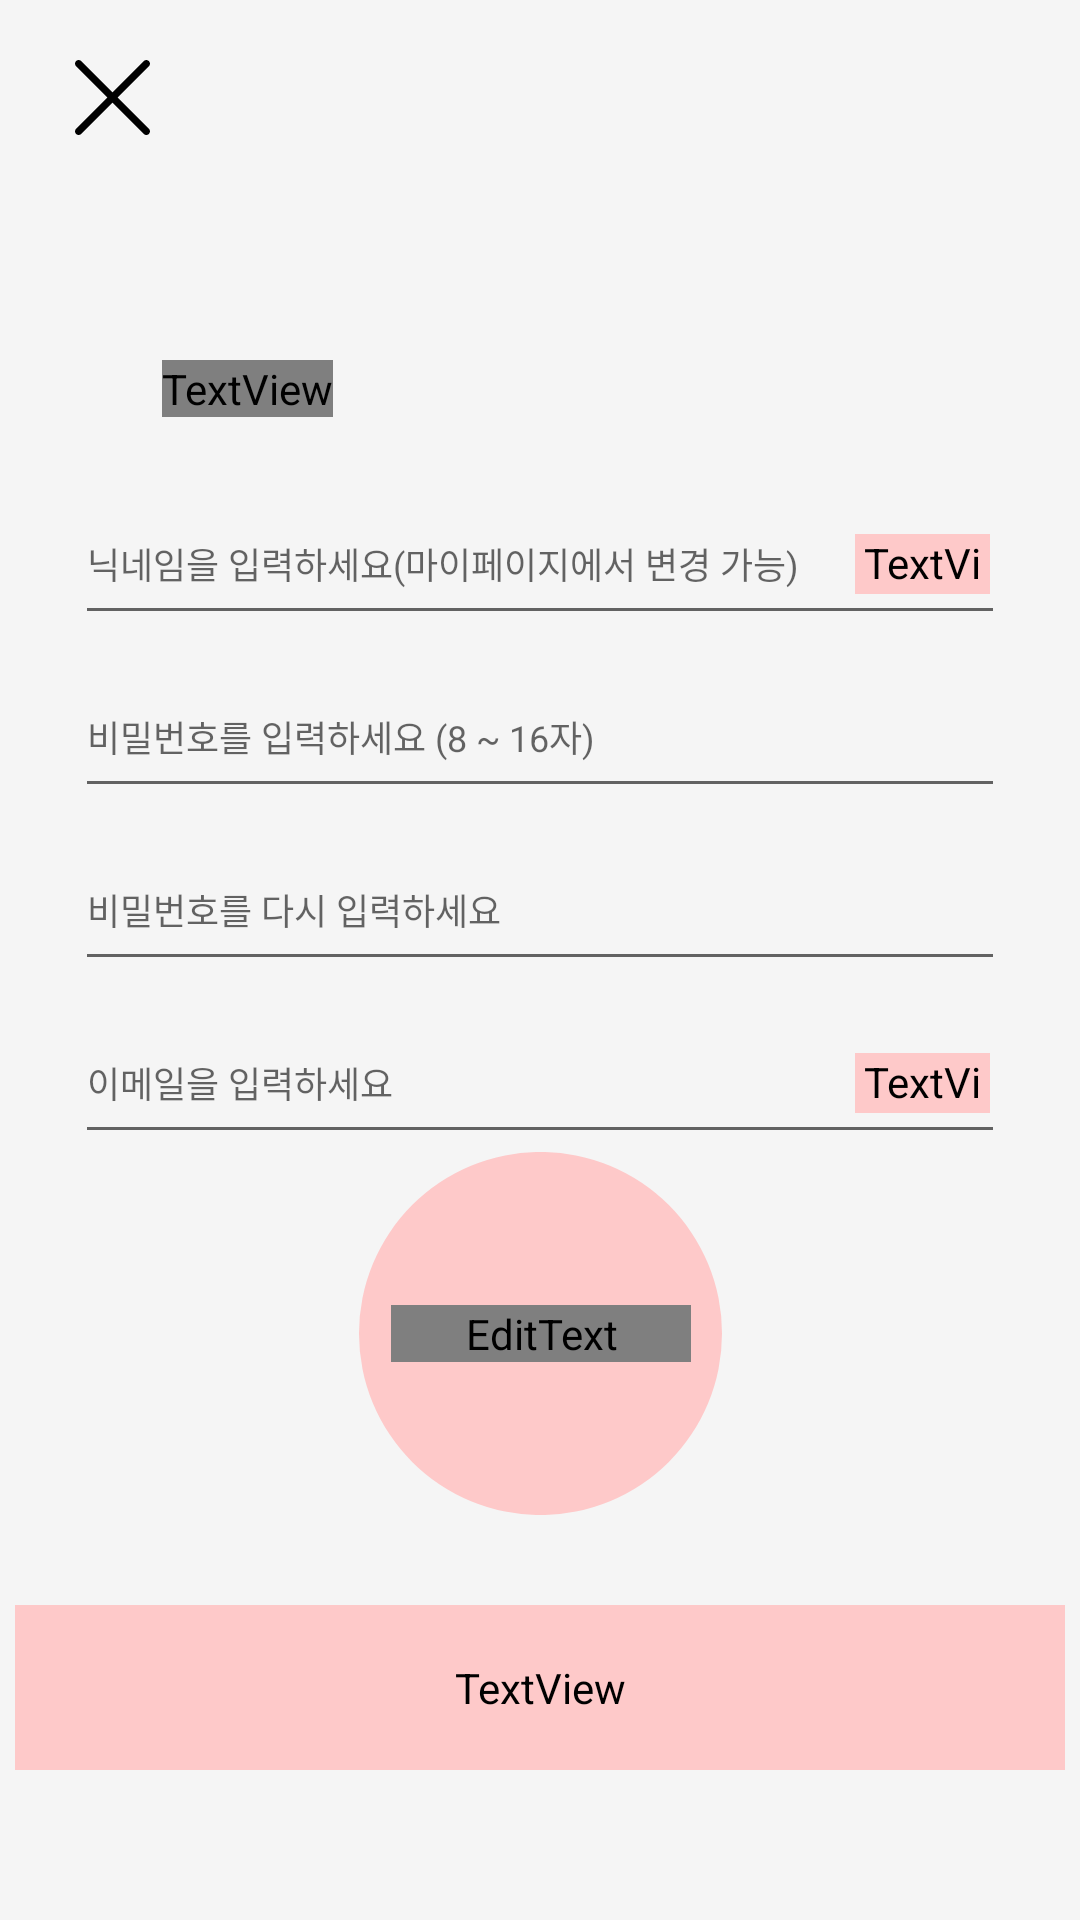

Where icons sit on this 1080 x 1920 app screen, as (x1, y1, x2, y2):
close: (75, 60, 150, 135)
